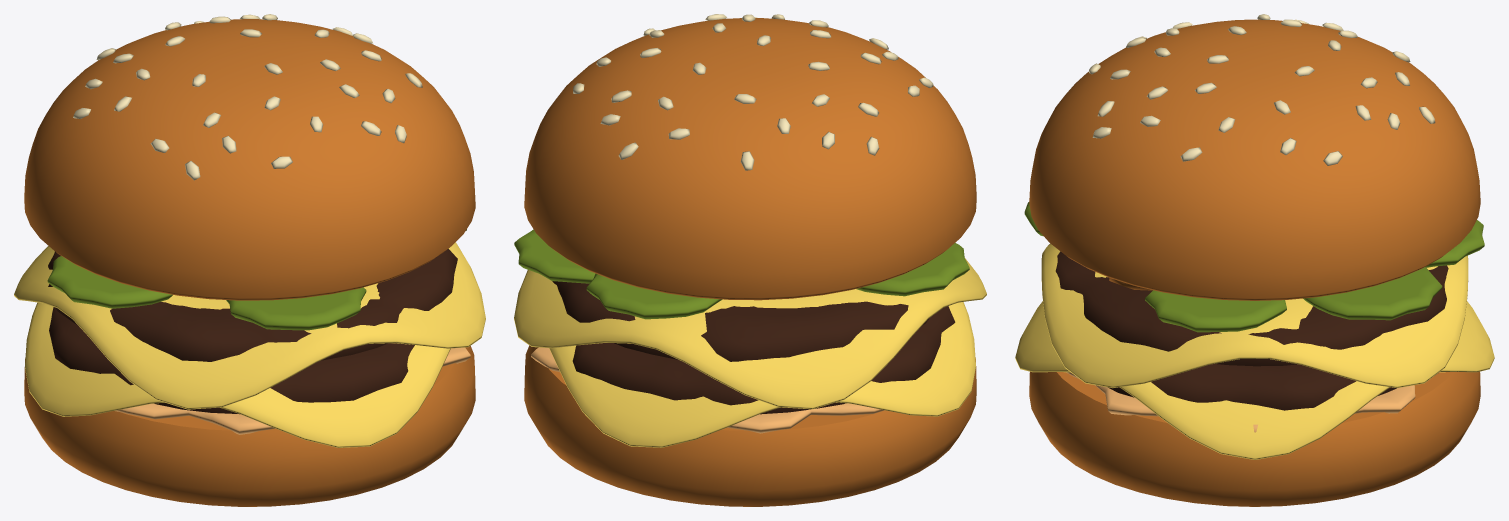
The model's file is duplo-smash.glb.
The picture shows the model from 3 angles, left to right: view 1: azimuth 30°, elevation 25°; view 2: azimuth 150°, elevation 25°; view 3: azimuth 270°, elevation 25°; orthographic projection.
Visible parts, largest first — view 1: duplo-smash; view 2: duplo-smash; view 3: duplo-smash.
Boxes of the visible parts, x1=… form: duplo-smash: x1=14, y1=14, x2=485, y2=506; duplo-smash: x1=514, y1=14, x2=986, y2=506; duplo-smash: x1=1015, y1=14, x2=1494, y2=506.
Size of the model in its own units: 0.1167 by 0.1 by 0.1167.
